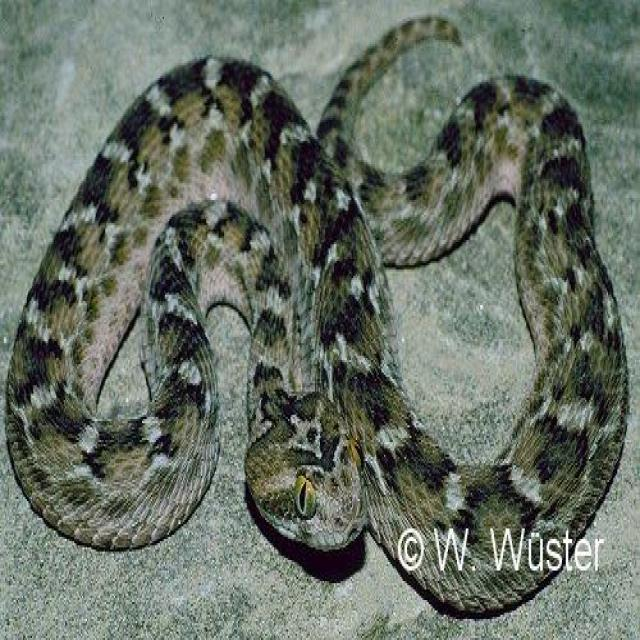Snake: (4, 10, 628, 617)
